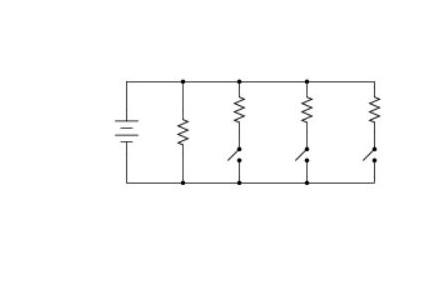resistor: (355, 87, 391, 130), (168, 111, 199, 154), (219, 88, 254, 126), (290, 90, 322, 131)
